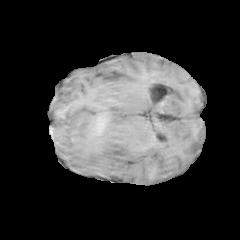glioma: (55, 108, 130, 173)
